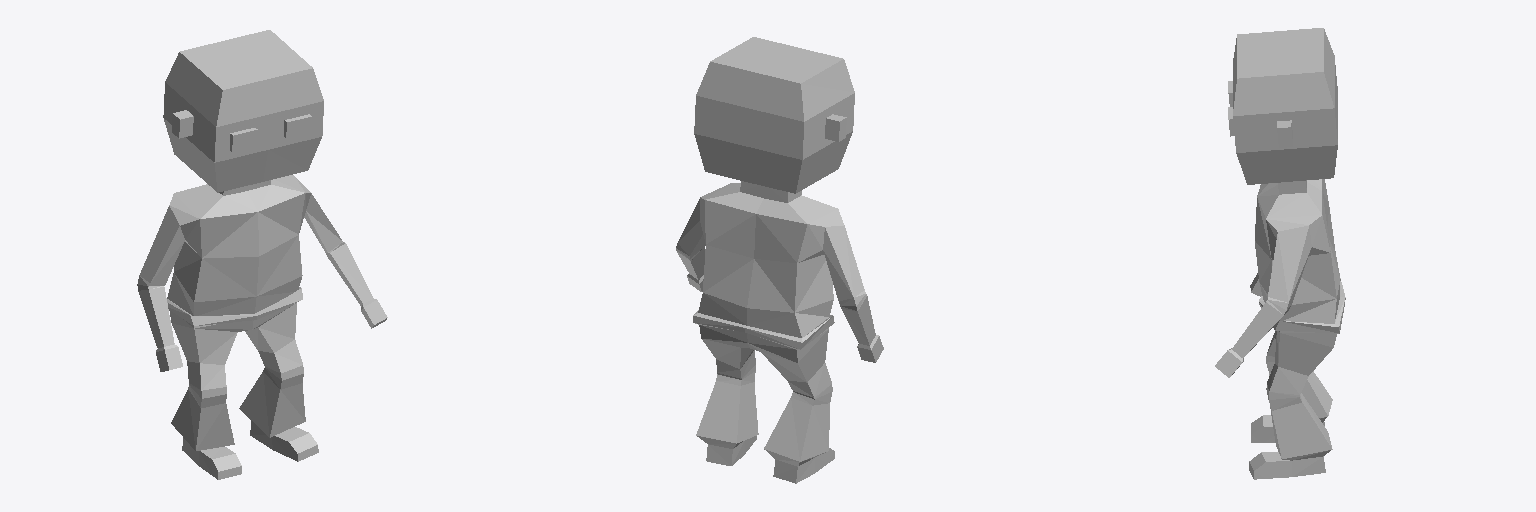
The model's file is Character-3.obj.
3 views of the same model, side by side, from view 1: azimuth 30°, elevation 25°; view 2: azimuth 150°, elevation 25°; view 3: azimuth 270°, elevation 25° (orthographic).
Visible parts, largest first — view 1: Police_Cube; view 2: Police_Cube; view 3: Police_Cube.
Part boxes in pixels (x1,y1,x2,y2): Police_Cube: (137, 30, 387, 479); Police_Cube: (676, 37, 883, 483); Police_Cube: (1215, 28, 1345, 479).
Bounding box in the file's own units: 1.67 × 3.11 × 0.9163.